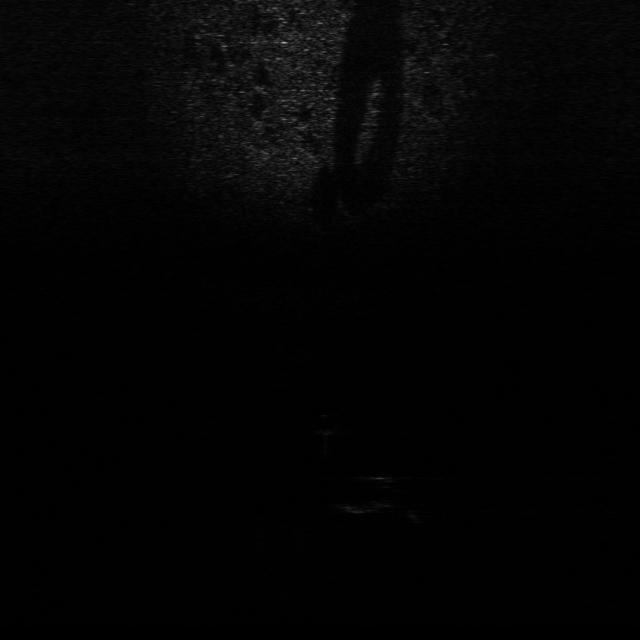ball: (306, 410, 344, 438)
tyre: (328, 470, 402, 518)
